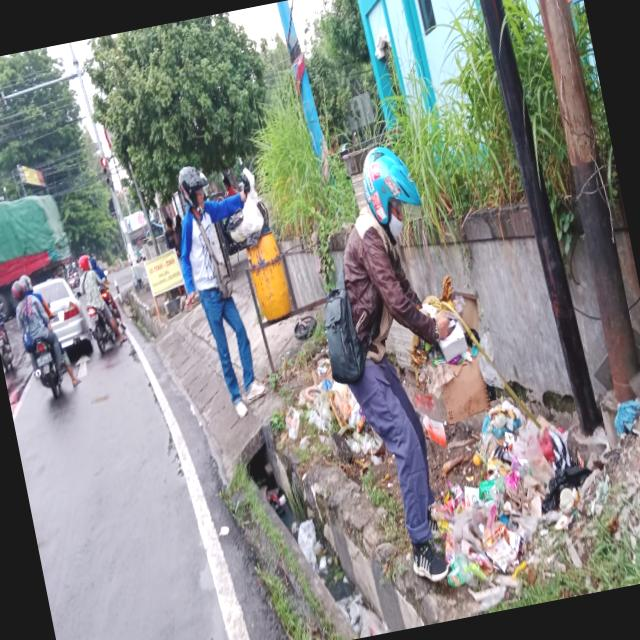garbage: (394, 266, 611, 602), (209, 158, 286, 262)
